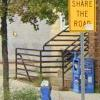stairs: (49, 61, 73, 91)
